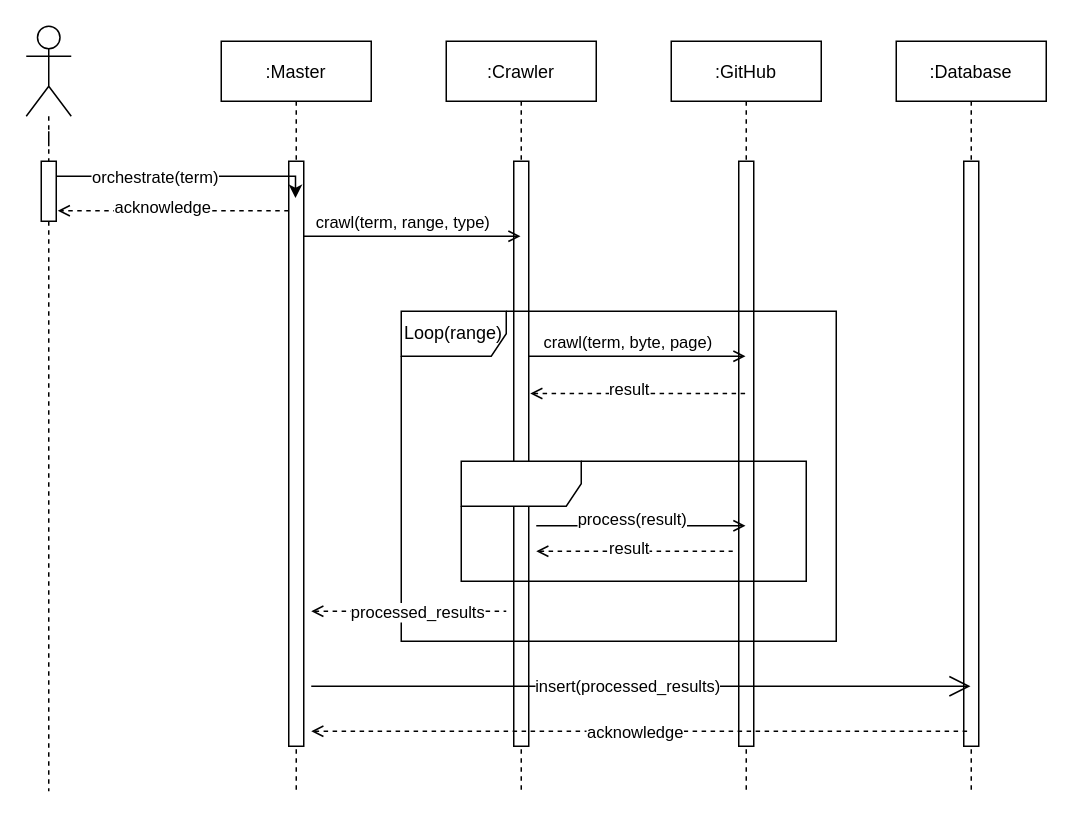
Image size: 1073x819. Some labels were removed from this diagram. The centre of each missing label's shape, as x and y in pixels:
"Loop(0, 100)" goes at [633,520].
"User" goes at [48,70].
